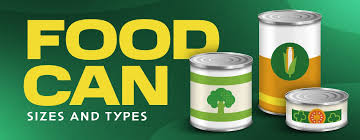can: (258, 9, 352, 136), (188, 49, 255, 133)
